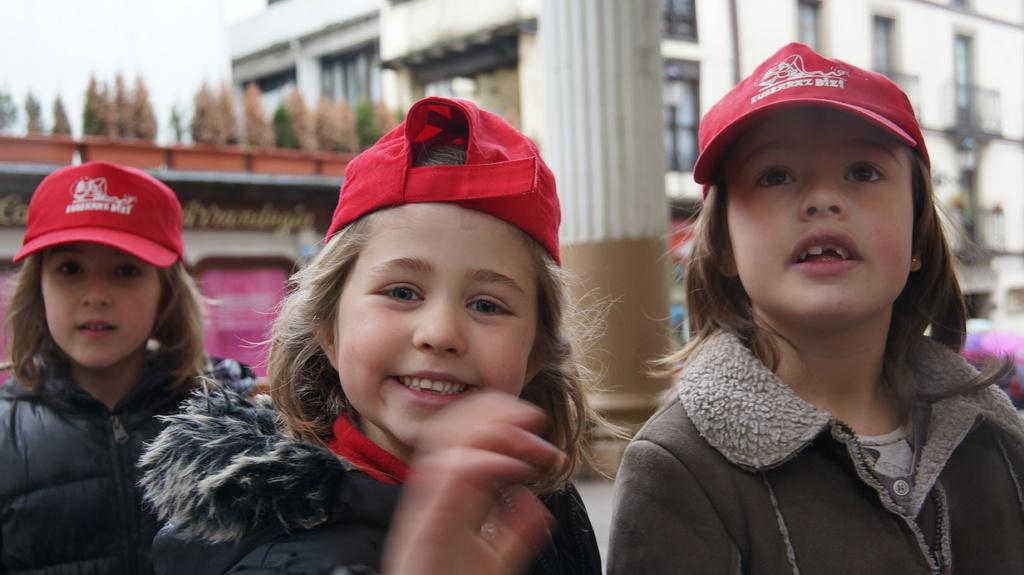Hat: (326, 94, 564, 266), (692, 36, 932, 198), (12, 160, 182, 271)
